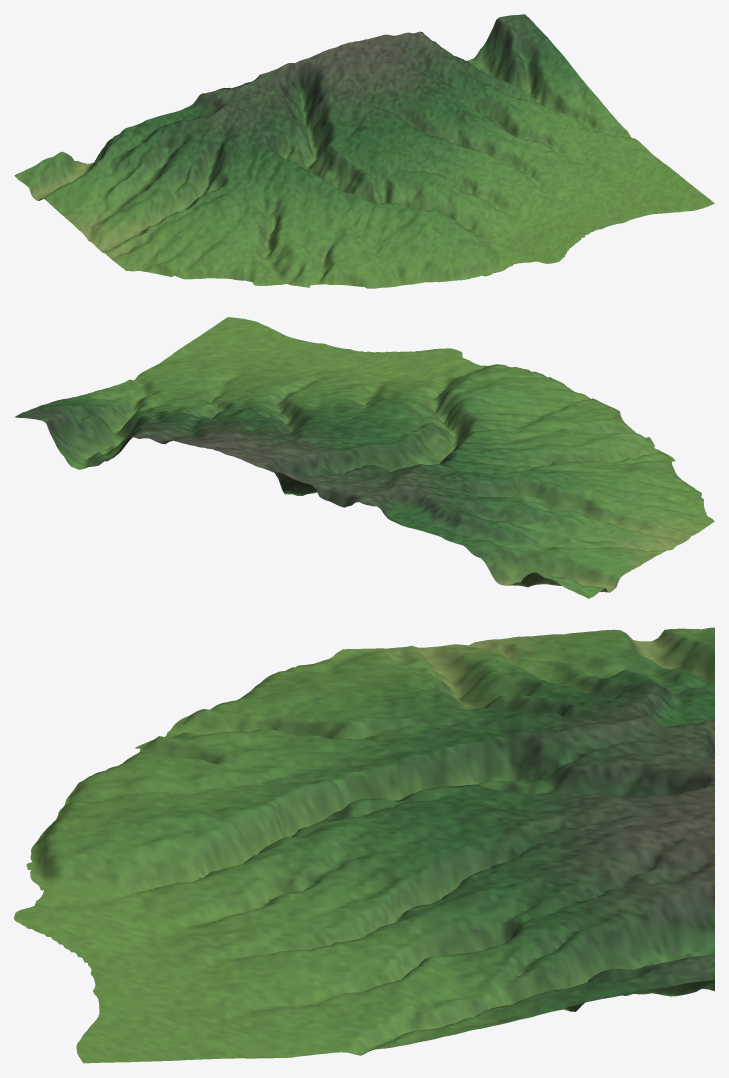
Rendered from lareunion-terrain-13.glb.
The picture shows the model from 3 angles, top to bottom: view 1: azimuth 30°, elevation 25°; view 2: azimuth 150°, elevation 25°; view 3: azimuth 270°, elevation 25°; orthographic projection. The views are drawn at different scales.
Visible parts, largest first — view 1: LaReunionRgeAltiTerrain_13; view 2: LaReunionRgeAltiTerrain_13; view 3: LaReunionRgeAltiTerrain_13.
Part boxes in pixels (box(x1,y1,x2,y2)): LaReunionRgeAltiTerrain_13: box(14, 14, 714, 288); LaReunionRgeAltiTerrain_13: box(14, 317, 714, 598); LaReunionRgeAltiTerrain_13: box(14, 627, 714, 1063).
Size of the model in its own units: 55.09 by 6.71 by 39.43.
